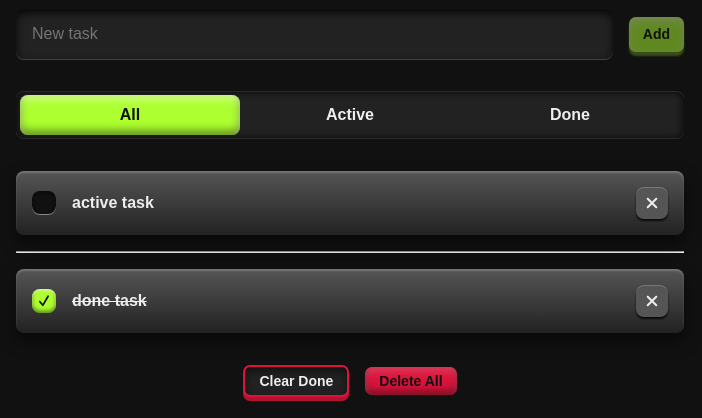
it: App › lets user delete all tasks
The image size is (702, 418).
Check: the text "active task" is shown, box [72,194,154,211]
Check: the text "done task" is shown, box [72,292,147,309]
Click the button "Delete All": (411,381) [365,367,457,395]
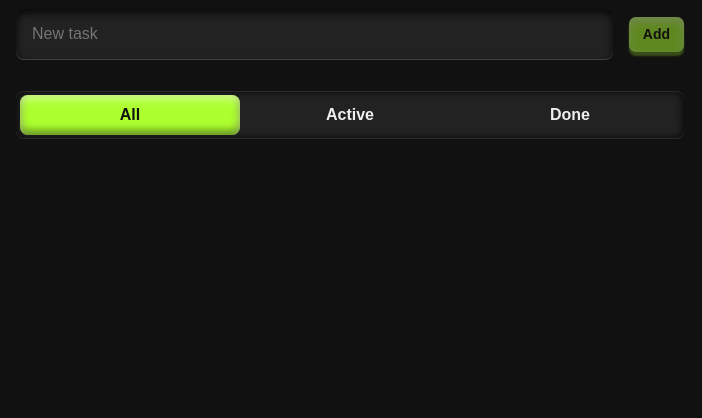
Check: the text "active task" is gone
Check: the text "done task" is gone
